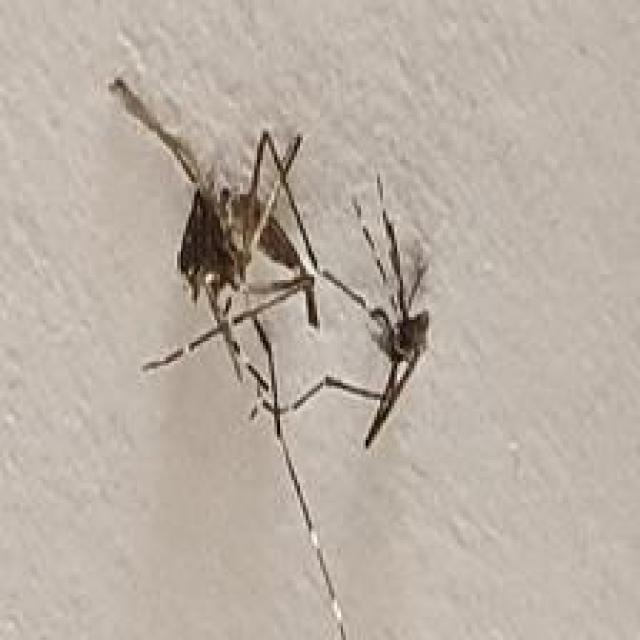Aedes albopictus: (106, 74, 434, 640)
